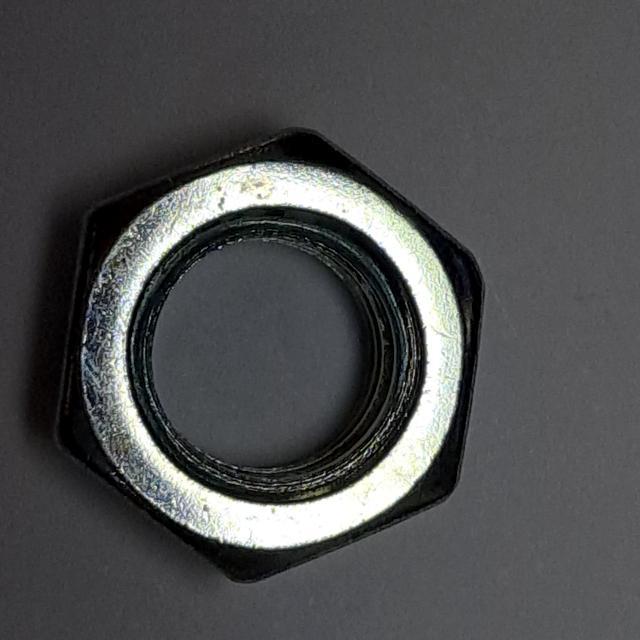Excellent: (40, 119, 499, 595)
